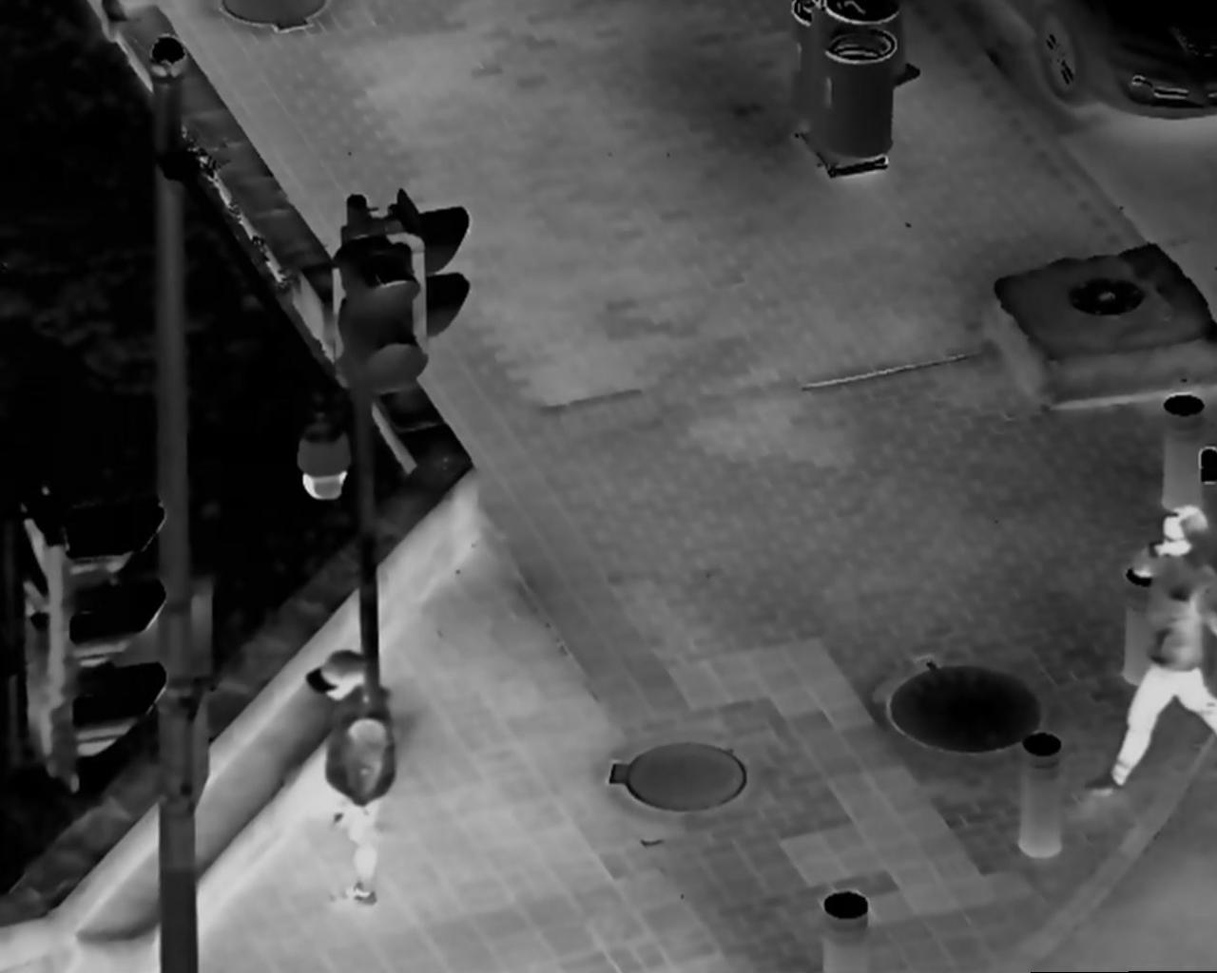person: (1097, 497, 1217, 810), (304, 643, 406, 917)
